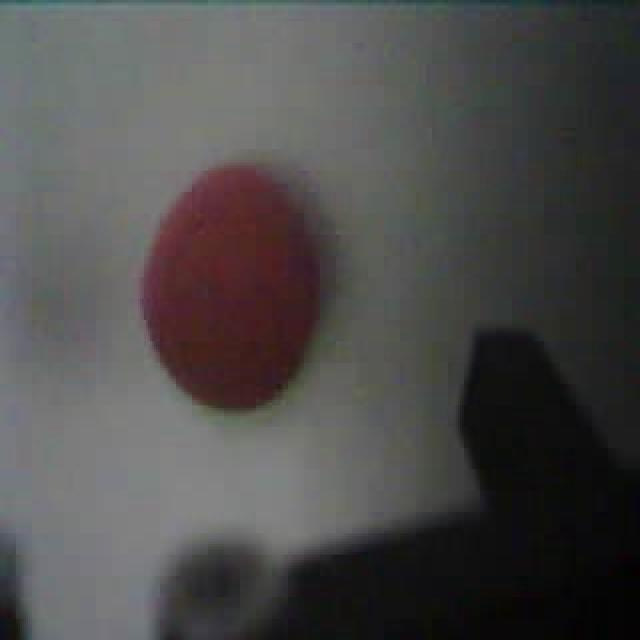red_ball: (138, 158, 326, 414)
